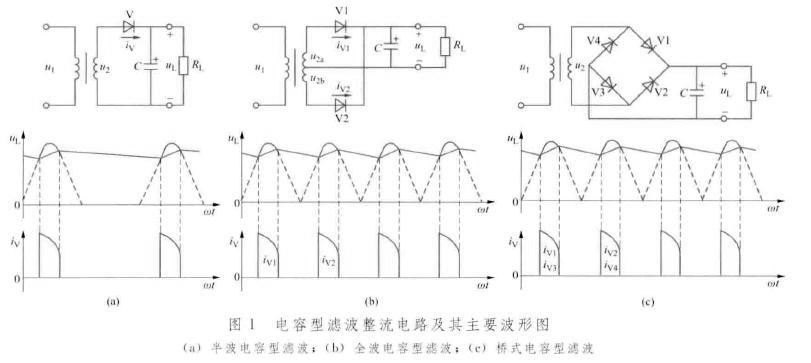bridge: (589, 25, 674, 105)
cap1: (686, 80, 708, 102), (381, 35, 401, 55), (142, 56, 161, 75)
diode: (119, 17, 139, 37), (330, 17, 351, 36), (331, 96, 350, 115)
res1: (176, 52, 191, 80), (744, 79, 759, 106), (438, 35, 453, 59)
trans: (278, 19, 311, 113), (544, 17, 575, 114), (69, 21, 100, 112)
